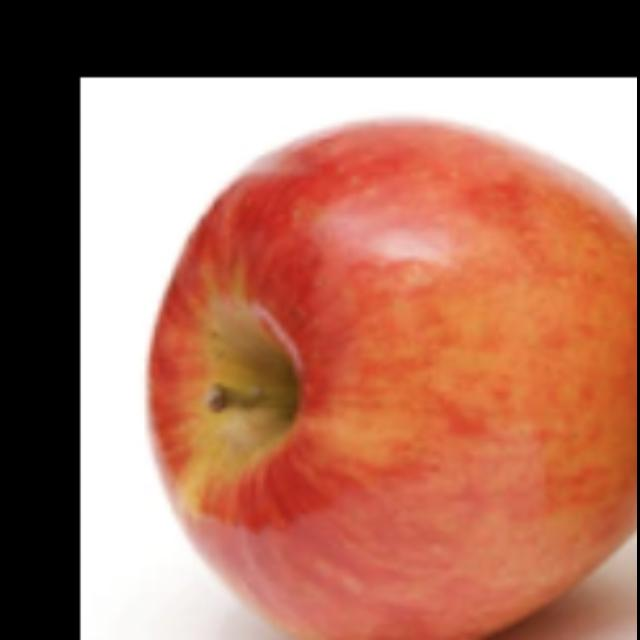Apel Segar: (148, 118, 638, 640)
